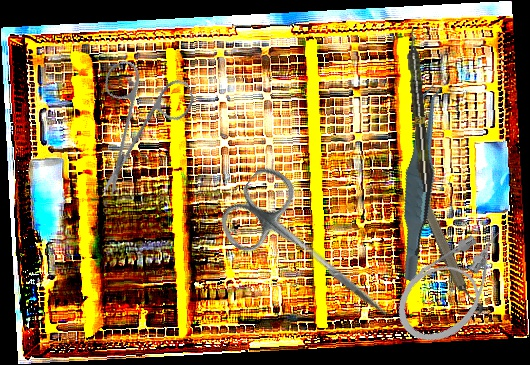Cannula: (382, 215, 530, 357)
Fixation Ring: (402, 165, 486, 320)
Handpiece: (404, 27, 434, 193)
Iris Scissors: (211, 160, 415, 346), (59, 41, 217, 199)
Tissue Forceps: (362, 81, 479, 284)
